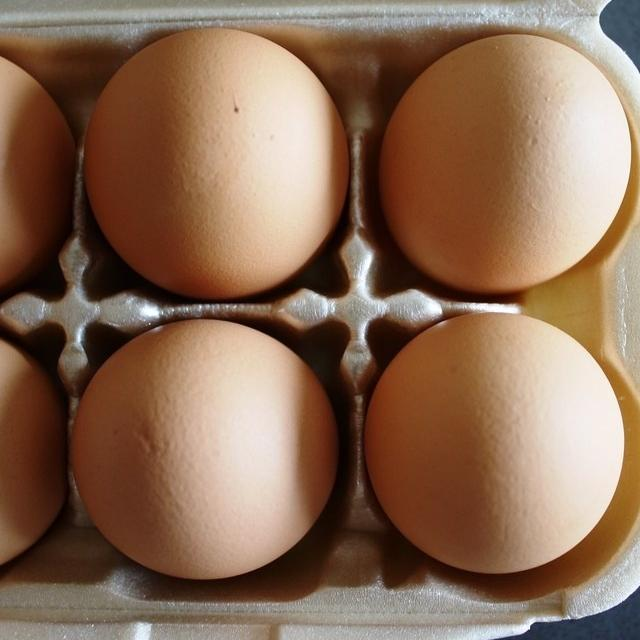egg: (82, 25, 349, 298), (70, 316, 339, 580), (363, 311, 625, 574), (377, 32, 632, 294), (0, 39, 76, 299), (0, 323, 67, 581)
